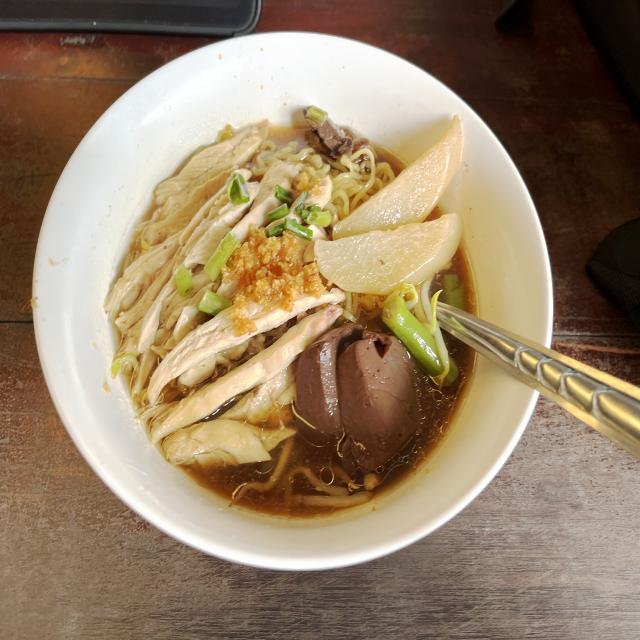boiled_chicken_blood_jelly: (308, 330, 412, 456)
chicken_shredded: (122, 127, 308, 471)
daikon_radish: (318, 118, 466, 284)
noodle: (111, 71, 502, 526)
